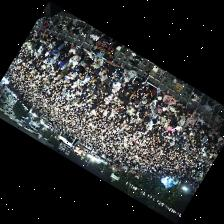person: (131, 68, 151, 87), (68, 48, 83, 65), (48, 43, 64, 57), (182, 116, 196, 131), (72, 60, 85, 76), (98, 74, 112, 88), (53, 56, 67, 70), (142, 84, 156, 98), (103, 60, 117, 73), (89, 63, 102, 76), (111, 77, 122, 92), (162, 94, 175, 106), (174, 101, 186, 114), (123, 68, 135, 80), (44, 37, 55, 50), (84, 49, 94, 63), (53, 36, 63, 49), (67, 43, 77, 56), (125, 83, 135, 96), (121, 76, 131, 88), (93, 55, 103, 67), (60, 41, 70, 53), (79, 68, 89, 79), (165, 111, 175, 122), (202, 122, 211, 134), (96, 83, 106, 93), (40, 32, 51, 41), (150, 98, 159, 109), (116, 64, 123, 78), (177, 115, 185, 127), (100, 71, 112, 79), (166, 104, 175, 114), (50, 51, 59, 61), (120, 95, 129, 105), (135, 88, 143, 99), (166, 124, 174, 135), (111, 68, 117, 82), (191, 110, 199, 120), (35, 45, 43, 55), (157, 88, 164, 99), (160, 115, 167, 126), (196, 116, 202, 128), (208, 126, 216, 135), (105, 93, 112, 103), (157, 100, 164, 109), (157, 106, 166, 113), (111, 40, 120, 47), (141, 93, 147, 103), (35, 30, 42, 37)
